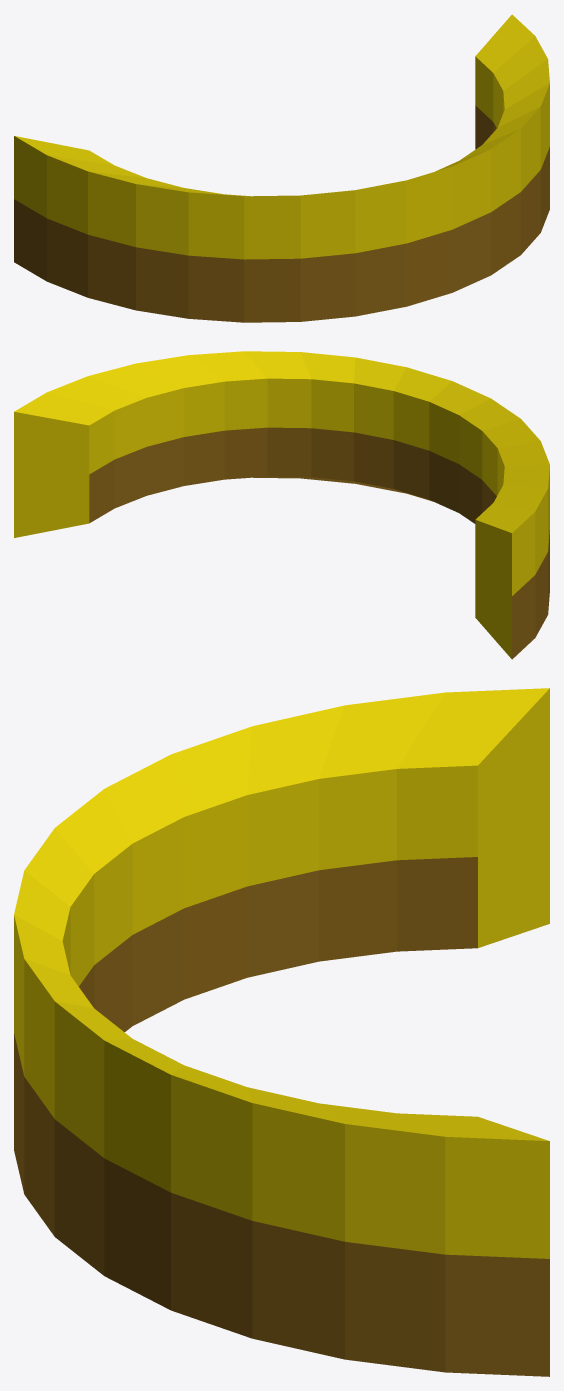
Rendered from Scrap05.fbx.
The picture shows the model from 3 angles, top to bottom: view 1: azimuth 30°, elevation 25°; view 2: azimuth 150°, elevation 25°; view 3: azimuth 270°, elevation 25°; orthographic projection. The views are drawn at different scales.
Visible parts, largest first — view 1: Cylinder; view 2: Cylinder; view 3: Cylinder.
Boxes of the visible parts, bbox=[...] form: Cylinder: bbox=[14, 14, 549, 322]; Cylinder: bbox=[14, 351, 549, 659]; Cylinder: bbox=[14, 688, 549, 1376].
Bounding box in the file's own units: 200 × 48.52 × 100.
